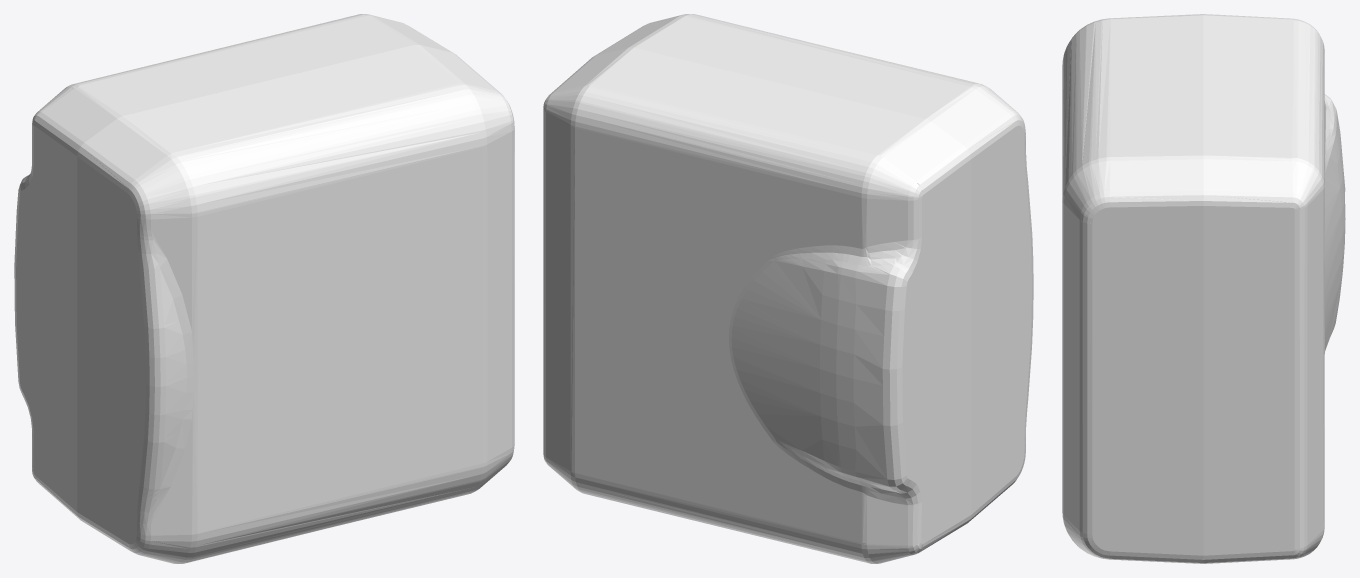
Rendered from gripper_link.glb.
3 renders of one model, left to right at view 1: azimuth 30°, elevation 25°; view 2: azimuth 150°, elevation 25°; view 3: azimuth 270°, elevation 25°, orthographic.
Parts seen in each view (by area): view 1: world; view 2: world; view 3: world.
Boxes of the visible parts, x1,y1,x2,y2 form: world: (14,14,514,563); world: (543,14,1033,563); world: (1062,14,1345,563).
Bounding box in the file's own units: 0.122 × 0.1261 × 0.0795.
1 material, 1 textured.
